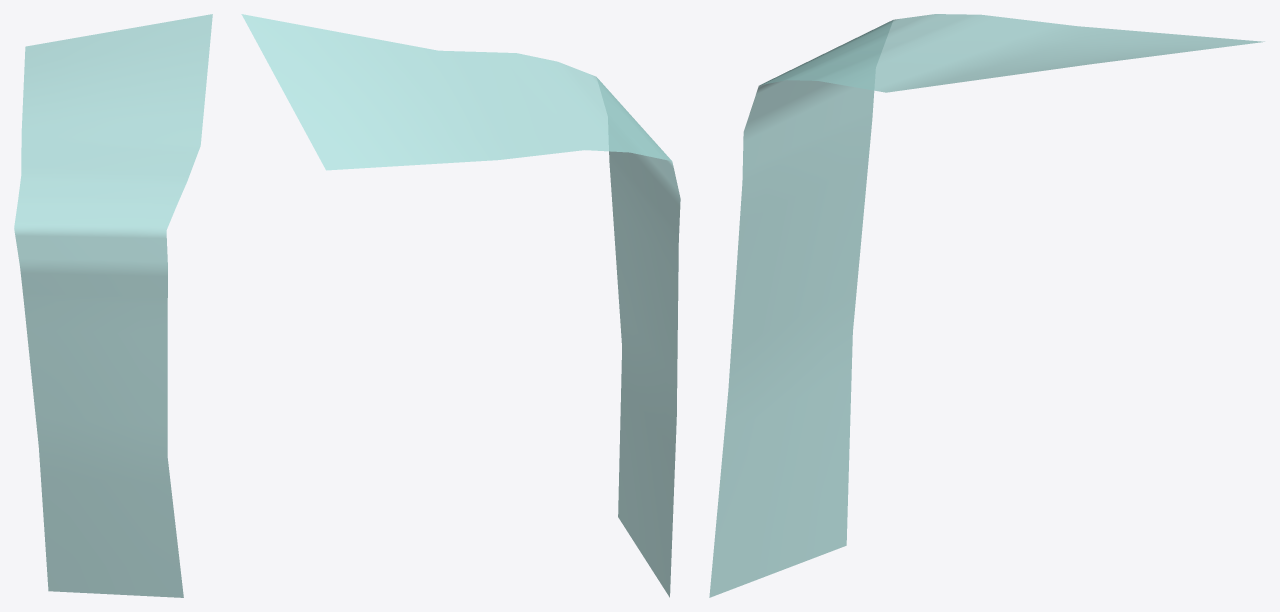
The model's file is waterFall3.glb.
3 views of the same model, side by side, from view 1: azimuth 30°, elevation 25°; view 2: azimuth 150°, elevation 25°; view 3: azimuth 270°, elevation 25° (orthographic). The views are drawn at different scales.
Visible parts, largest first — view 1: WaterFall; view 2: WaterFall; view 3: WaterFall.
Part boxes in pixels (<box>): WaterFall: <box>14,14,212,597</box>; WaterFall: <box>241,14,680,597</box>; WaterFall: <box>709,14,1264,597</box>.
Bounding box in the file's own units: 5.06 × 8.24 × 6.32.
